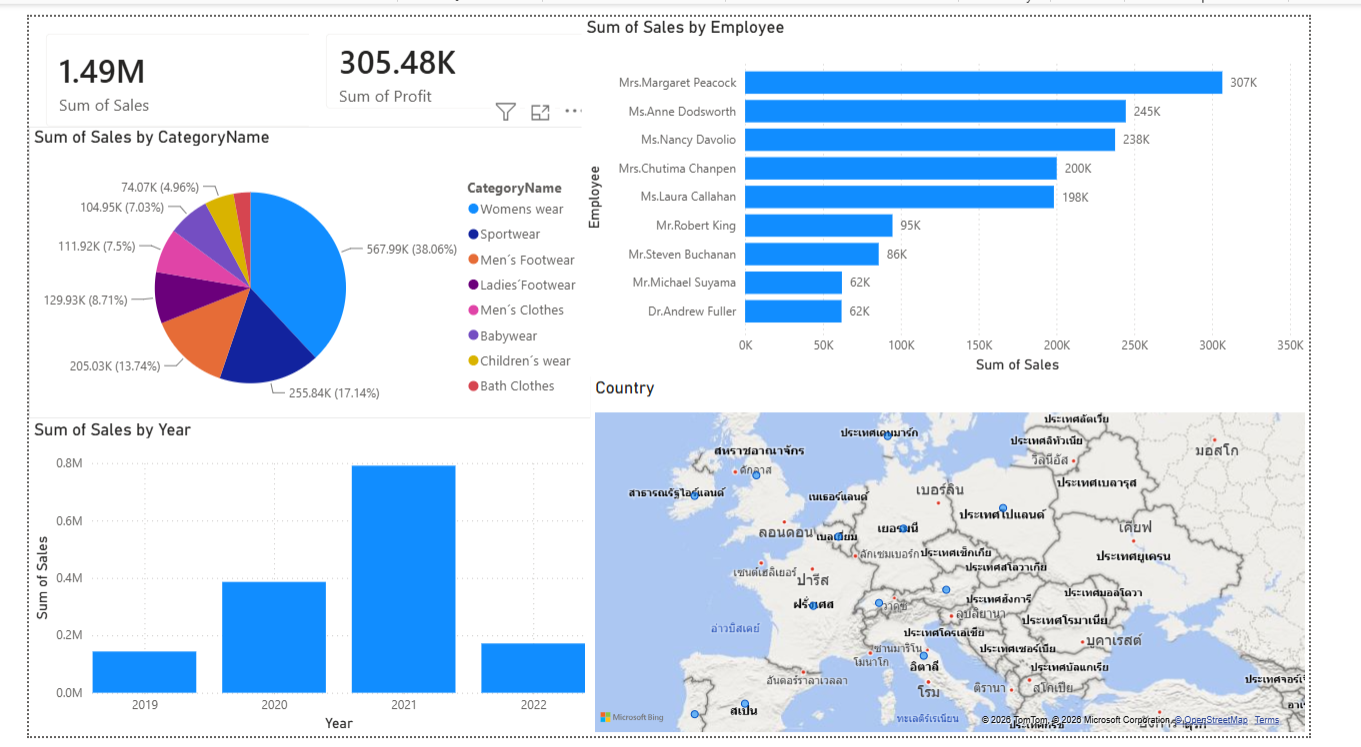

The dashboard page shown, as its layout file describes it:
{"tool":"powerbi","page":{"name":"Page 1","canvas":[1280,720],"ordinal":0},"visuals":[{"type":"cardVisual","fields":{"Data":["Sum(Order Details.Sales)"]},"box":[0,0,300.5,127.6],"z":0},{"type":"cardVisual","fields":{"Data":["Sum(Order Details.Profit)"]},"box":[279.9,0,300.5,109.8],"z":1000},{"type":"pieChart","fields":{"Category":["Categories.CategoryName"],"Y":["Sum(Order Details.Sales)"]},"box":[0,109.8,561.2,292.3],"z":2000},{"type":"clusteredBarChart","fields":{"Category":["Employee.Employee"],"Y":["Sum(Order Details.Sales)"]},"box":[552.7,0,727.6,360.7],"z":3000},{"type":"map","fields":{"Category":["Customers.Country"]},"box":[561.3,360.7,719,359.5],"z":4000},{"type":"columnChart","fields":{"Category":["Order Details.OrderDate.Variation.Date Hierarchy.Year","Order Details.OrderDate.Variation.Date Hierarchy.Quarter","Order Details.OrderDate.Variation.Date Hierarchy.Month","Order Details.OrderDate.Variation.Date Hierarchy.Day"],"Y":["Sum(Order Details.Sales)"]},"box":[0,402.3,561.3,317.9],"z":5000}]}

Visuals, with their boxes in screenshot pixels (x1, y1, x2, y2), scaled from the page's 1280x720 canvas onto the 1361x747 screenshot:
cardVisual - Sum(Order Details.Sales): bbox=(0, 0, 320, 132)
cardVisual - Sum(Order Details.Profit): bbox=(298, 0, 617, 114)
pieChart - Categories.CategoryName x Sum(Order Details.Sales): bbox=(0, 114, 597, 417)
clusteredBarChart - Employee.Employee x Sum(Order Details.Sales): bbox=(588, 0, 1360, 374)
map - Customers.Country: bbox=(597, 374, 1360, 746)
columnChart - Order Details.OrderDate.Variation.Date Hierarchy.Year x Order Details.OrderDate.Variation.Date Hierarchy.Quarter: bbox=(0, 417, 597, 746)
